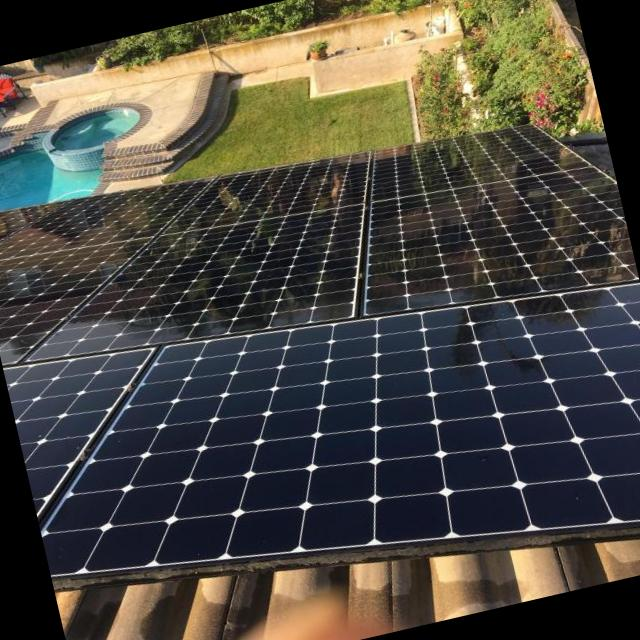no faulty: (47, 284, 640, 573), (41, 205, 361, 356), (363, 169, 638, 312), (6, 352, 134, 512), (0, 239, 147, 362), (368, 123, 588, 200), (0, 176, 207, 256), (166, 154, 365, 233)
